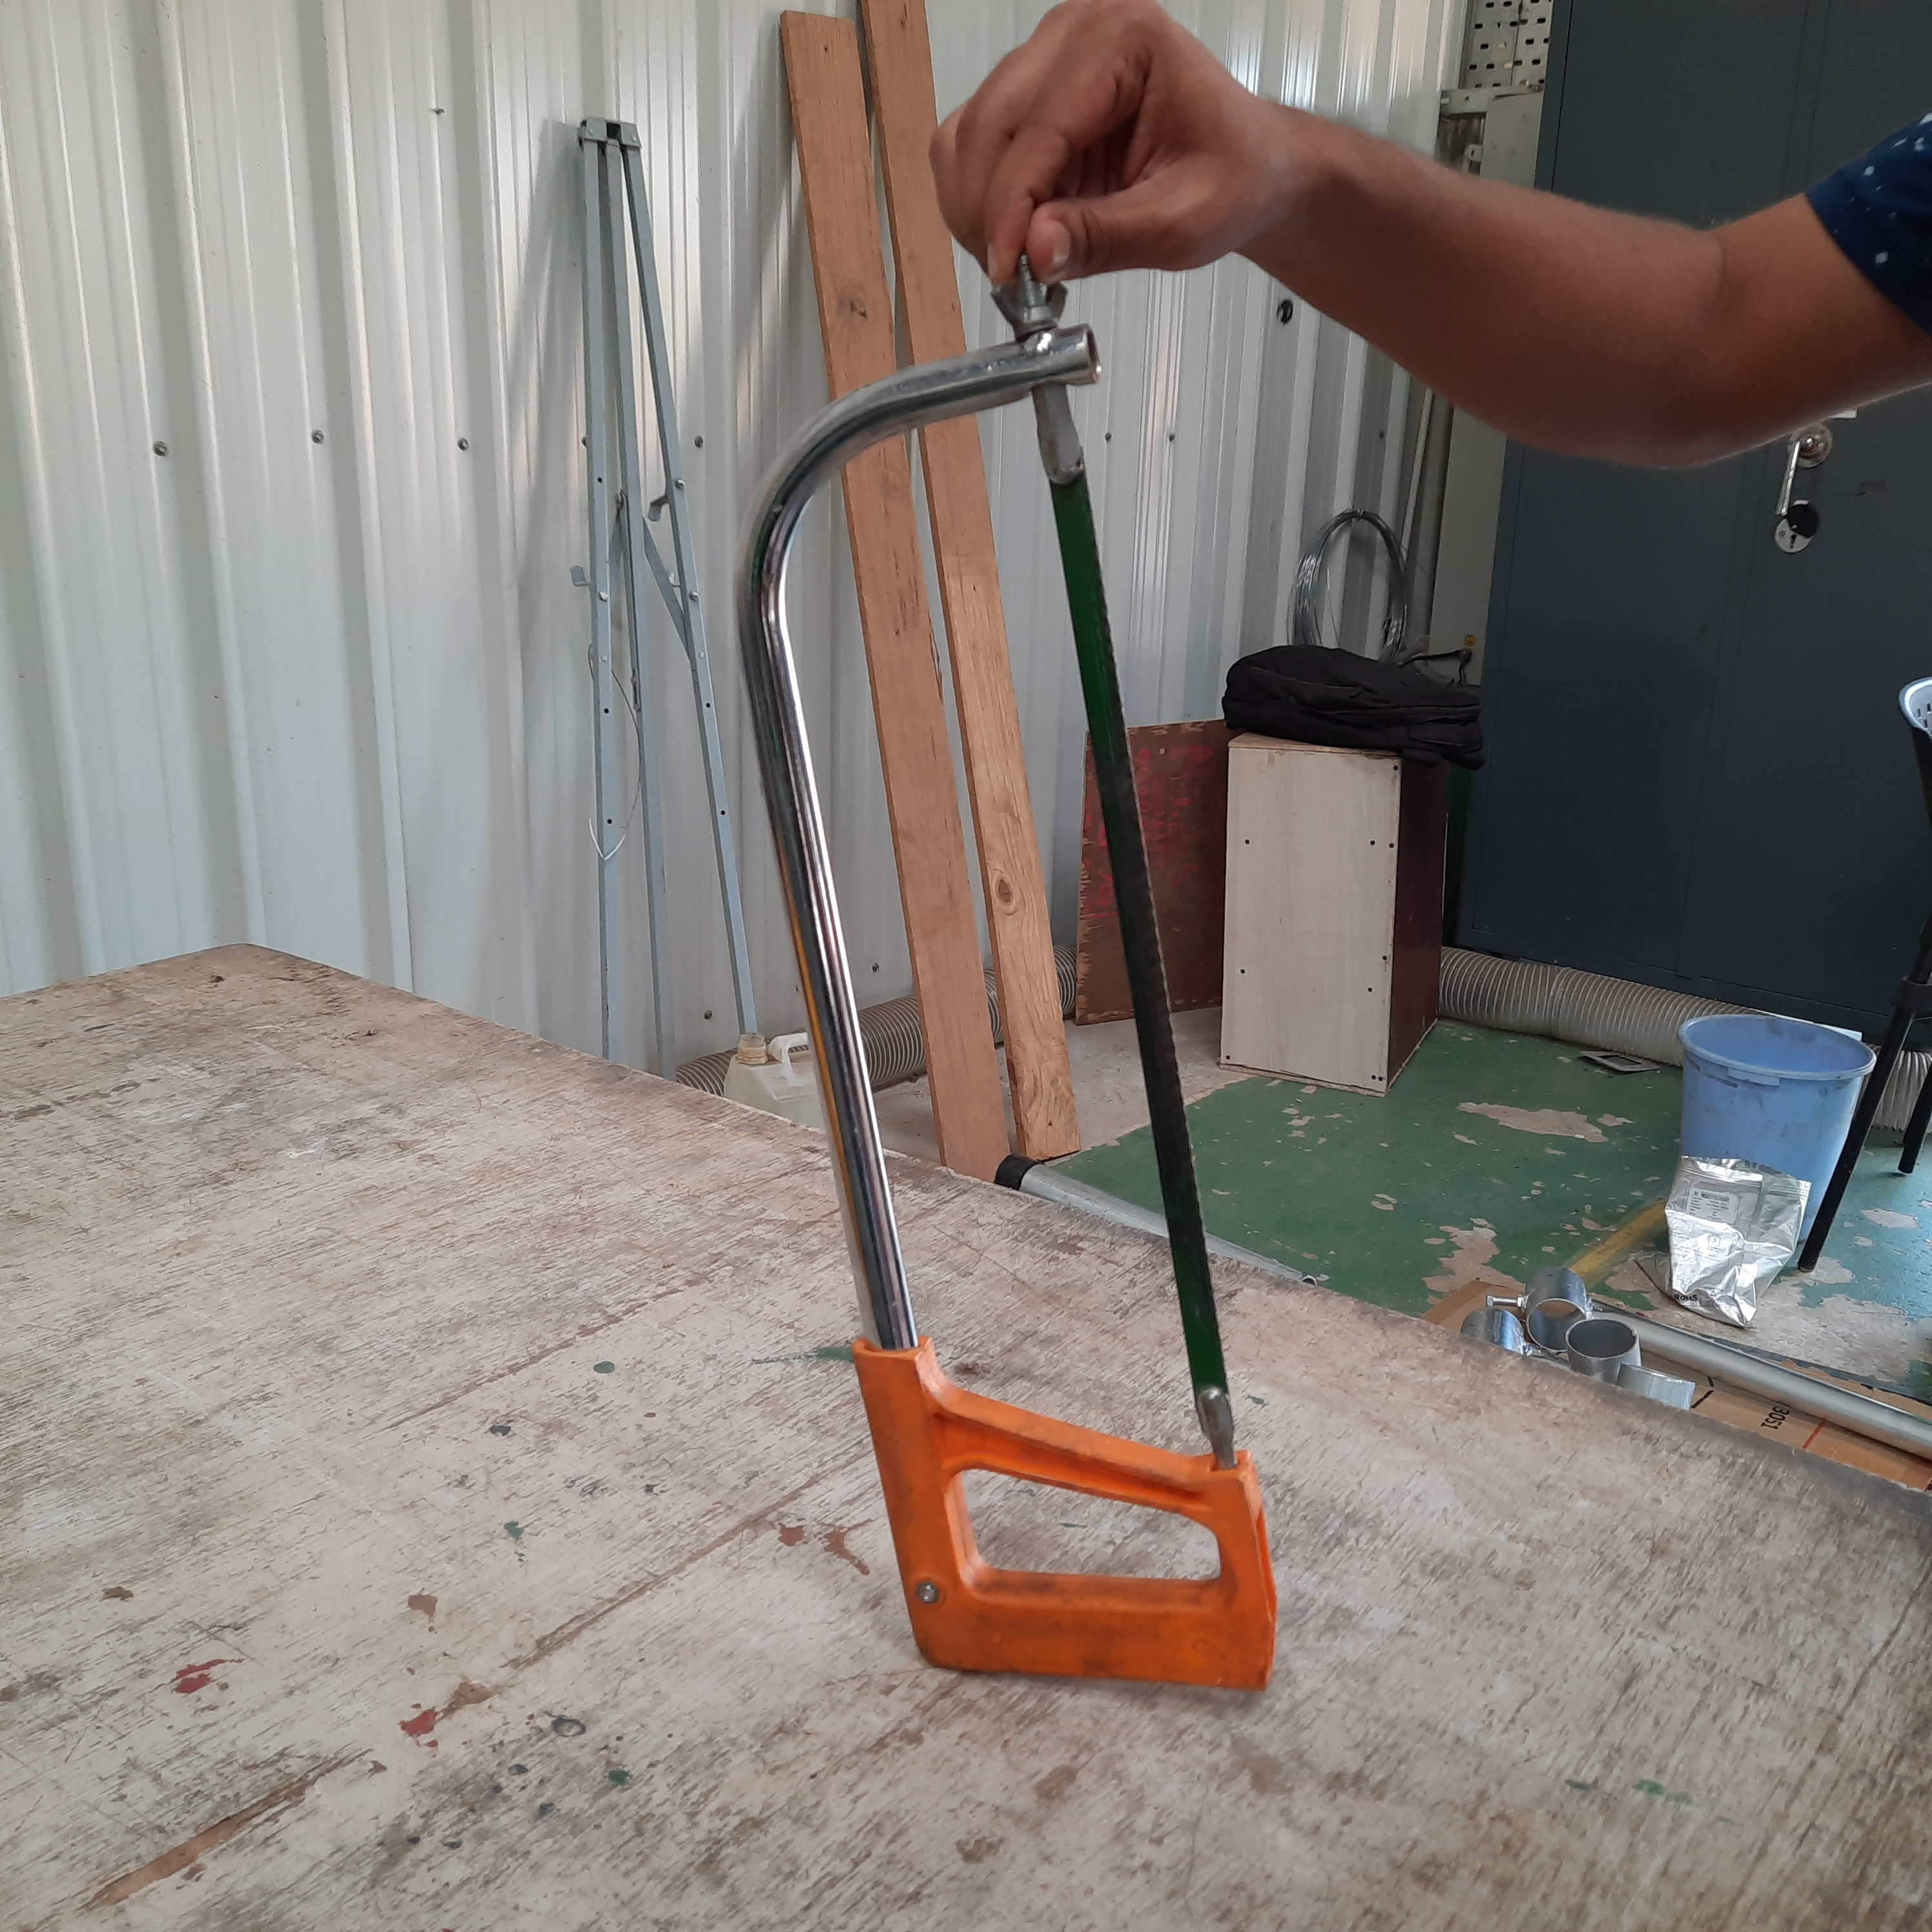Hexaframe: (655, 276, 1373, 1737)
